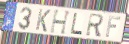3: (18, 7, 33, 32)
F: (105, 15, 122, 39)
H: (49, 9, 72, 36)
K: (35, 8, 52, 33)
L: (69, 12, 83, 36)
R: (85, 13, 105, 38)
